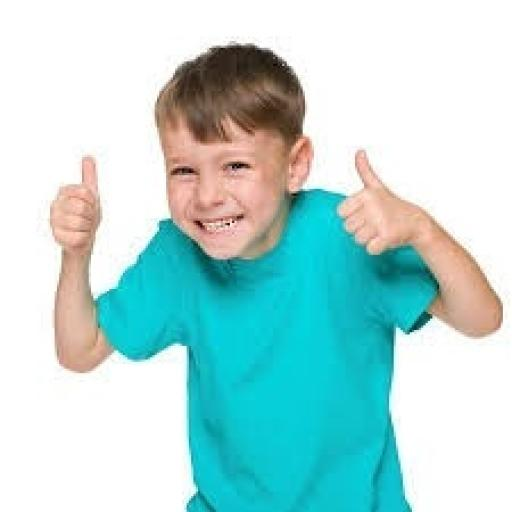laughing: (39, 34, 505, 510)
